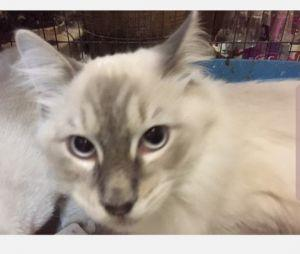siamese: (13, 11, 219, 234)
